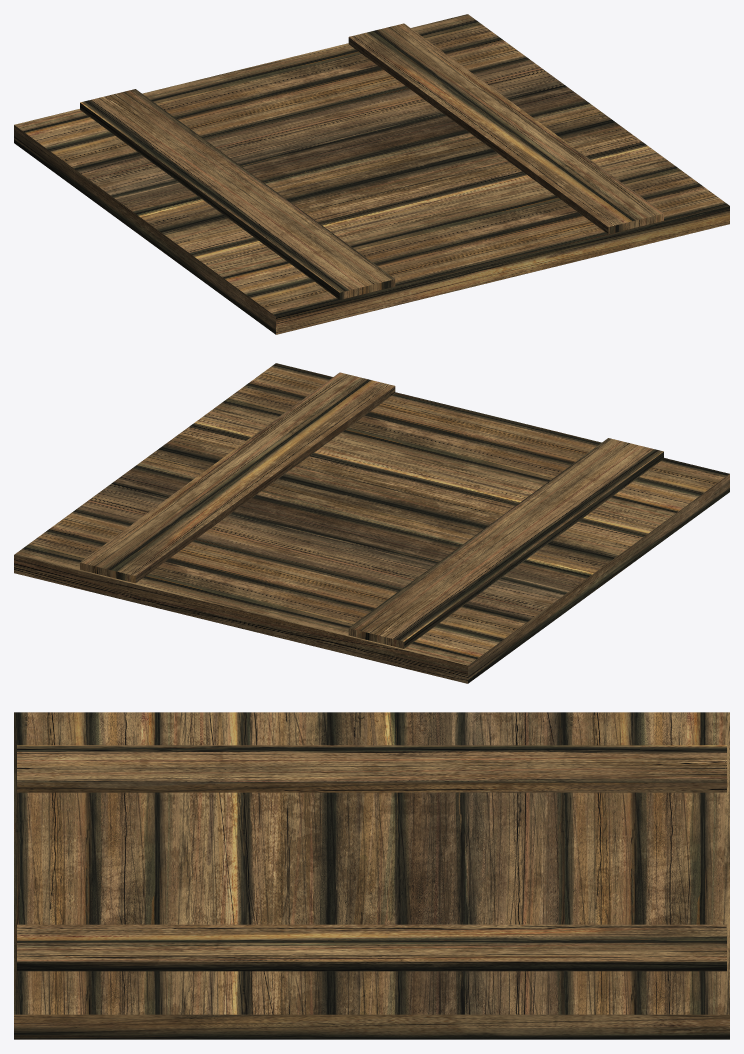
The model's file is WoodenCrate_Top_fragments.FBX.
The picture shows the model from 3 angles, top to bottom: view 1: azimuth 30°, elevation 25°; view 2: azimuth 150°, elevation 25°; view 3: azimuth 270°, elevation 25°; orthographic projection. The views are drawn at different scales.
Visible parts, largest first — view 1: LP_Deckel_001_frag_003_frag_004, LP_Deckel_001_frag_001, LP_Deckel_001_frag_002, LP_Deckel_001_frag_003_frag_007, LP_Deckel_001_frag_003_frag_012, LP_Deckel_001_frag_003_frag_010_frag_002, LP_Deckel_001_frag_003_frag_016_frag_002, LP_Deckel_001_frag_003_frag_014_frag_002, LP_Deckel_001_frag_003_frag_011_frag_002, LP_Deckel_001_frag_003_frag_010_frag_001, LP_Deckel_001_frag_003_frag_017_frag_002, LP_Deckel_001_frag_003_frag_003_frag_002 (+6 smaller); view 2: LP_Deckel_001_frag_001, LP_Deckel_001_frag_002, LP_Deckel_001_frag_003_frag_008, LP_Deckel_001_frag_003_frag_004, LP_Deckel_001_frag_003_frag_007, LP_Deckel_001_frag_003_frag_012, LP_Deckel_001_frag_003_frag_010_frag_002, LP_Deckel_001_frag_003_frag_016_frag_002, LP_Deckel_001_frag_003_frag_014_frag_002, LP_Deckel_001_frag_003_frag_011_frag_002, LP_Deckel_001_frag_003_frag_010_frag_001, LP_Deckel_001_frag_003_frag_017_frag_002 (+6 smaller); view 3: LP_Deckel_001_frag_001, LP_Deckel_001_frag_002, LP_Deckel_001_frag_003_frag_004, LP_Deckel_001_frag_003_frag_007, LP_Deckel_001_frag_003_frag_012, LP_Deckel_001_frag_003_frag_010_frag_001, LP_Deckel_001_frag_003_frag_010_frag_002, LP_Deckel_001_frag_003_frag_016_frag_002, LP_Deckel_001_frag_003_frag_014_frag_002, LP_Deckel_001_frag_003_frag_014_frag_001, LP_Deckel_001_frag_003_frag_011_frag_002, LP_Deckel_001_frag_003_frag_016_frag_001 (+6 smaller).
Part boxes in pixels (left/top/right/bottom): LP_Deckel_001_frag_003_frag_004: left=248, top=185, right=729, bottom=334; LP_Deckel_001_frag_001: left=76, top=89, right=399, bottom=301; LP_Deckel_001_frag_002: left=348, top=23, right=663, bottom=234; LP_Deckel_001_frag_003_frag_007: left=24, top=21, right=502, bottom=168; LP_Deckel_001_frag_003_frag_012: left=224, top=167, right=701, bottom=313; LP_Deckel_001_frag_003_frag_010_frag_002: left=75, top=110, right=355, bottom=214; LP_Deckel_001_frag_003_frag_016_frag_002: left=161, top=169, right=457, bottom=272; LP_Deckel_001_frag_003_frag_014_frag_002: left=192, top=192, right=480, bottom=296; LP_Deckel_001_frag_003_frag_011_frag_002: left=49, top=80, right=341, bottom=186; LP_Deckel_001_frag_003_frag_010_frag_001: left=303, top=58, right=565, bottom=141; LP_Deckel_001_frag_003_frag_017_frag_002: left=135, top=152, right=400, bottom=250; LP_Deckel_001_frag_003_frag_003_frag_002: left=112, top=141, right=385, bottom=231; LP_Deckel_001_frag_001: left=344, top=438, right=667, bottom=650; LP_Deckel_001_frag_002: left=80, top=372, right=395, bottom=583; LP_Deckel_001_frag_003_frag_008: left=14, top=547, right=477, bottom=683; LP_Deckel_001_frag_003_frag_004: left=248, top=363, right=729, bottom=511; LP_Deckel_001_frag_003_frag_007: left=24, top=529, right=502, bottom=675; LP_Deckel_001_frag_003_frag_012: left=224, top=384, right=701, bottom=529; LP_Deckel_001_frag_003_frag_010_frag_002: left=275, top=539, right=565, bottom=638; LP_Deckel_001_frag_003_frag_016_frag_002: left=349, top=473, right=645, bottom=575; LP_Deckel_001_frag_003_frag_014_frag_002: left=390, top=451, right=677, bottom=553; LP_Deckel_001_frag_003_frag_011_frag_002: left=215, top=560, right=528, bottom=657; LP_Deckel_001_frag_003_frag_010_frag_001: left=75, top=483, right=340, bottom=562; LP_Deckel_001_frag_003_frag_017_frag_002: left=338, top=499, right=614, bottom=594; LP_Deckel_001_frag_001: left=14, top=745, right=729, bottom=794; LP_Deckel_001_frag_002: left=17, top=924, right=726, bottom=971; LP_Deckel_001_frag_003_frag_004: left=14, top=712, right=89, bottom=1039; LP_Deckel_001_frag_003_frag_007: left=633, top=712, right=702, bottom=1039; LP_Deckel_001_frag_003_frag_012: left=91, top=712, right=156, bottom=1039; LP_Deckel_001_frag_003_frag_010_frag_001: left=462, top=859, right=564, bottom=1039; LP_Deckel_001_frag_003_frag_010_frag_002: left=462, top=712, right=564, bottom=890; LP_Deckel_001_frag_003_frag_016_frag_002: left=244, top=712, right=327, bottom=899; LP_Deckel_001_frag_003_frag_014_frag_002: left=157, top=712, right=243, bottom=888; LP_Deckel_001_frag_003_frag_014_frag_001: left=157, top=878, right=243, bottom=1039; LP_Deckel_001_frag_003_frag_011_frag_002: left=564, top=712, right=634, bottom=904; LP_Deckel_001_frag_003_frag_016_frag_001: left=243, top=872, right=327, bottom=1039.
Size of the model in its own units: 130 by 130 by 7.
